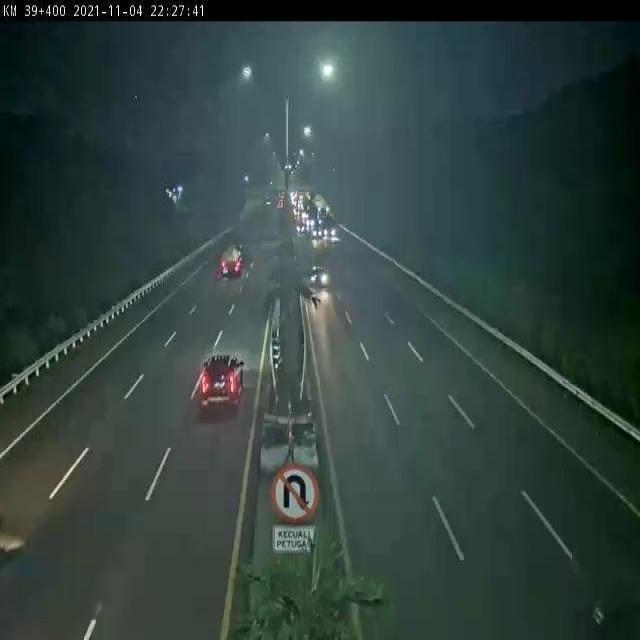car: (201, 356, 245, 411), (309, 266, 329, 290)
truck: (219, 240, 247, 277)
